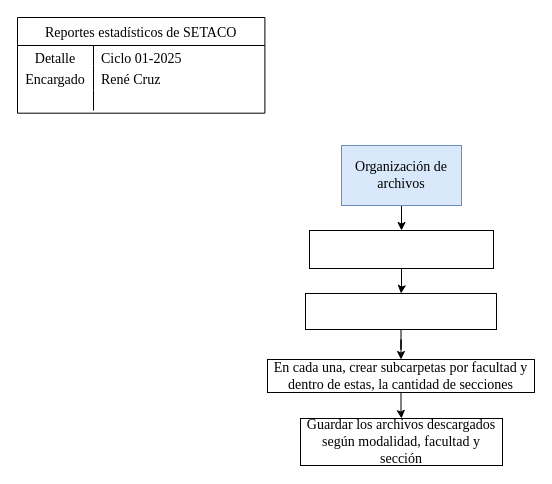
Image size: 552x484. Some labels were removed from this diagram. Each missing label, with the centre of its shape:
Crear en el escritorio la carpeta "Reporte SETACO": pixel 401 249
Dentro, crear subcarpetas "Virtual y Presencial": pixel 400 311
